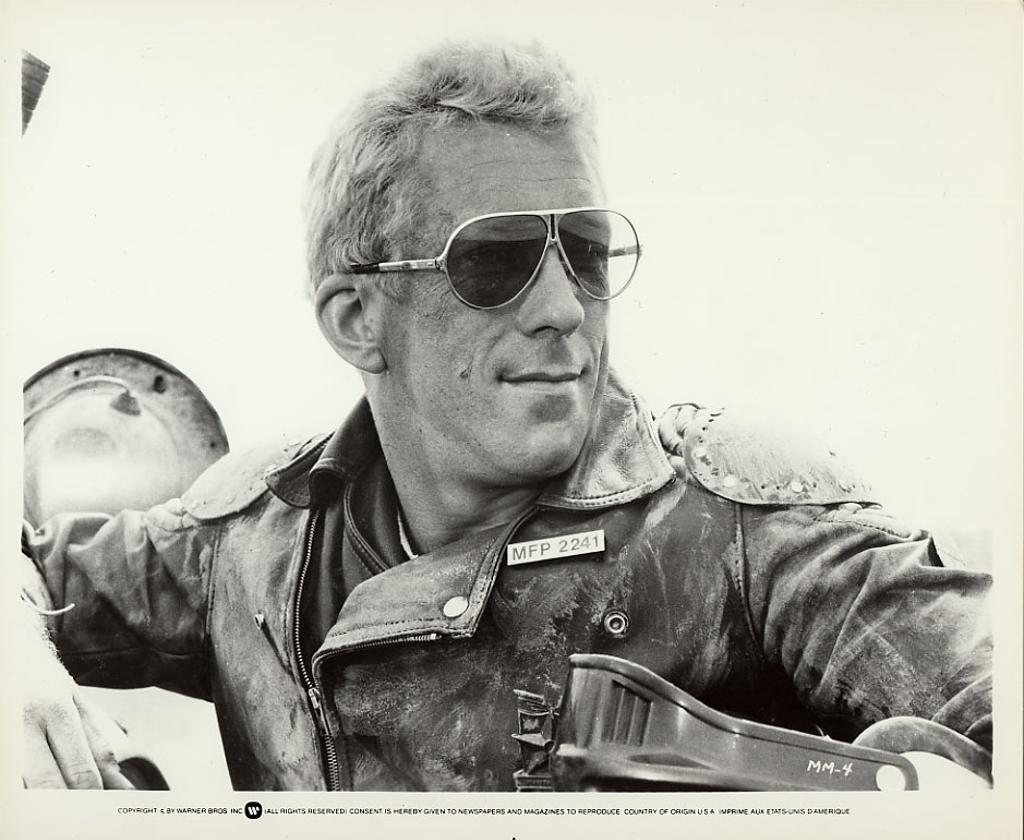face: (378, 114, 606, 476)
